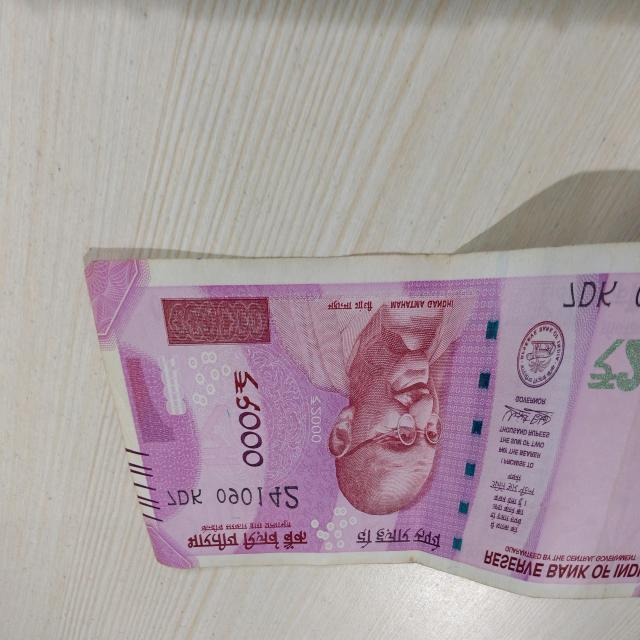Currency: (77, 242, 640, 610)
